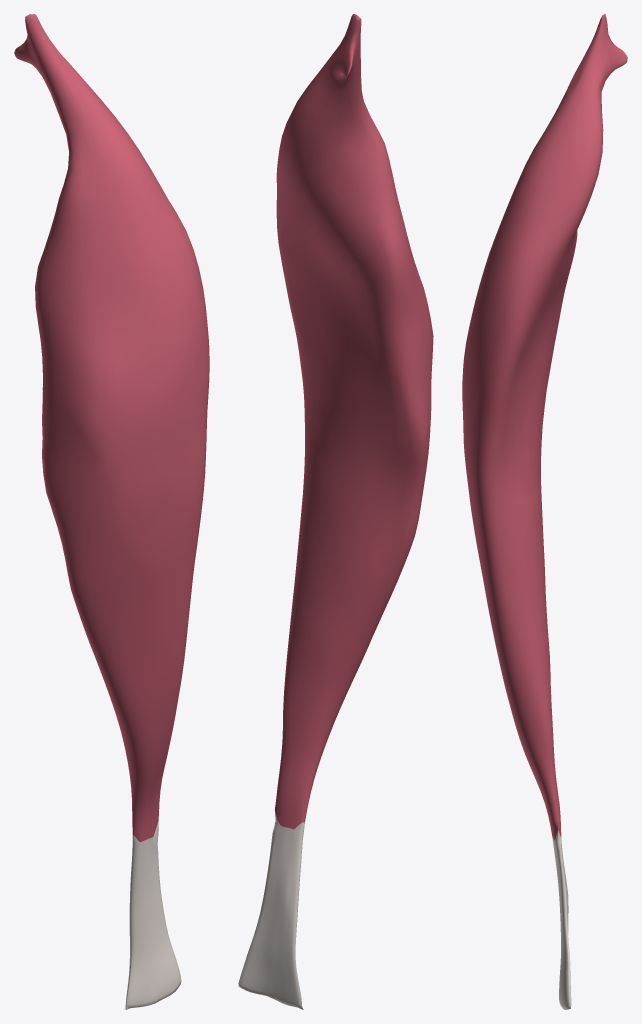
File: VH_M_Muscles_Knee_L.glb
3 renders of one model, left to right at view 1: azimuth 30°, elevation 25°; view 2: azimuth 150°, elevation 25°; view 3: azimuth 270°, elevation 25°, orthographic. The views are drawn at different scales.
Visible parts, largest first — view 1: VH_M_rectus_femoris_L, VH_M_tendon_of_quadriceps_femoris_L; view 2: VH_M_rectus_femoris_L, VH_M_tendon_of_quadriceps_femoris_L; view 3: VH_M_rectus_femoris_L, VH_M_tendon_of_quadriceps_femoris_L.
Part boxes in pixels (x1,y1,x2,y2): VH_M_rectus_femoris_L: [14, 14, 209, 841]; VH_M_tendon_of_quadriceps_femoris_L: [124, 821, 181, 1009]; VH_M_rectus_femoris_L: [275, 14, 433, 829]; VH_M_tendon_of_quadriceps_femoris_L: [238, 811, 304, 1009]; VH_M_rectus_femoris_L: [462, 14, 627, 840]; VH_M_tendon_of_quadriceps_femoris_L: [552, 831, 571, 1009].
Bounding box in the file's own units: 0.0755 × 0.4559 × 0.0724.
